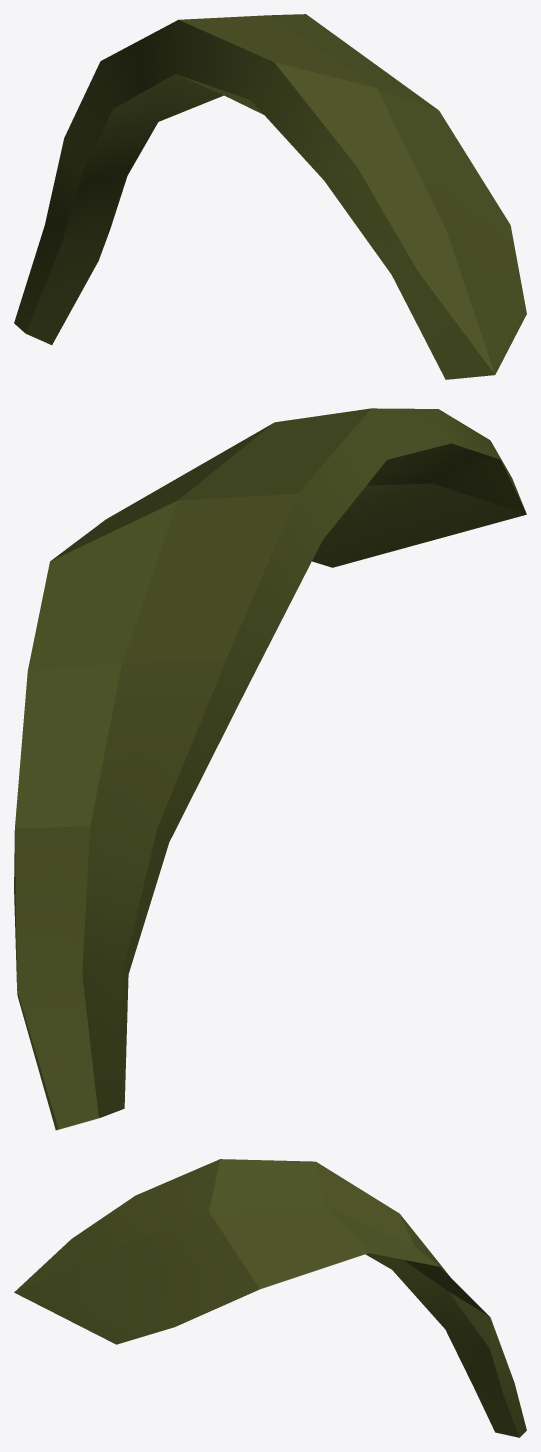
Rendered from ea_swamp_leaf_01a_pre_11_lev1.glb.
The picture shows the model from 3 angles, top to bottom: view 1: azimuth 30°, elevation 25°; view 2: azimuth 150°, elevation 25°; view 3: azimuth 270°, elevation 25°; orthographic projection. The views are drawn at different scales.
Parts seen in each view (by area): view 1: ea_swamp_leaf_01a_pre_11_lev1; view 2: ea_swamp_leaf_01a_pre_11_lev1; view 3: ea_swamp_leaf_01a_pre_11_lev1.
Boxes of the visible parts, x1,y1,x2,y2 form: ea_swamp_leaf_01a_pre_11_lev1: (14,14,526,379); ea_swamp_leaf_01a_pre_11_lev1: (14,408,526,1130); ea_swamp_leaf_01a_pre_11_lev1: (14,1159,526,1437).
Bounding box in the file's own units: 0.3696 × 0.7046 × 1.21.
Materials: 1 (1 with a texture image).
